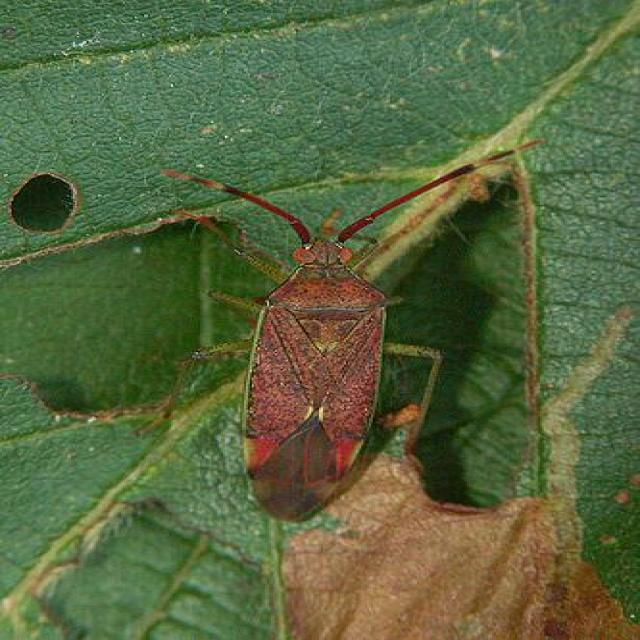Miridae-Adult-: (156, 159, 514, 524)
